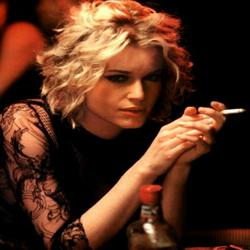cigarro: (213, 107, 245, 117)
fumador: (21, 11, 238, 248)
